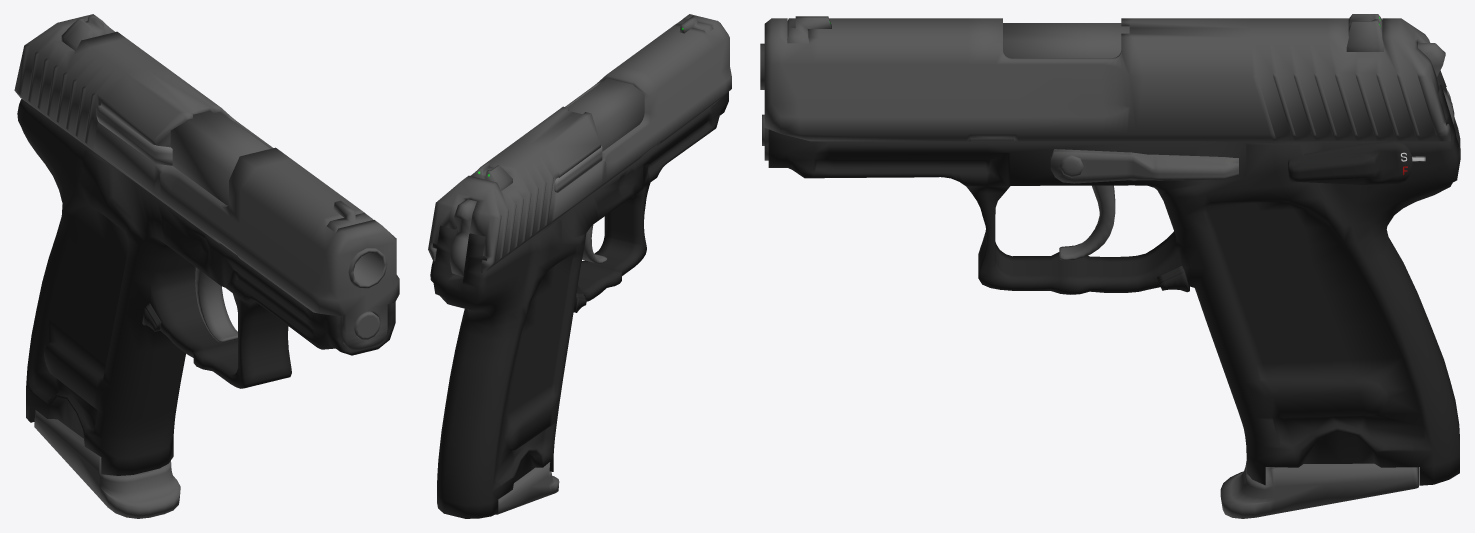
The picture shows the model from 3 angles, left to right: view 1: azimuth 30°, elevation 25°; view 2: azimuth 150°, elevation 25°; view 3: azimuth 270°, elevation 25°; orthographic projection. The views are drawn at different scales.
Parts seen in each view (by area): view 1: Barrel, Slide, Small; view 2: Barrel, Slide, Small; view 3: Barrel, Slide, Small.
Boxes of the visible parts, left/top/right/bottom form: Barrel: left=17, top=99, right=395, bottom=475; Slide: left=14, top=14, right=399, bottom=518; Small: left=61, top=15, right=380, bottom=342; Barrel: left=430, top=78, right=728, bottom=518; Slide: left=428, top=14, right=731, bottom=514; Small: left=449, top=16, right=713, bottom=312; Barrel: left=760, top=23, right=1460, bottom=485; Slide: left=764, top=18, right=1451, bottom=518; Small: left=762, top=14, right=1454, bottom=292.
Bounding box in the file's own units: 0.3218 × 1.54 × 2.
Materials: 3 (3 with a texture image).
